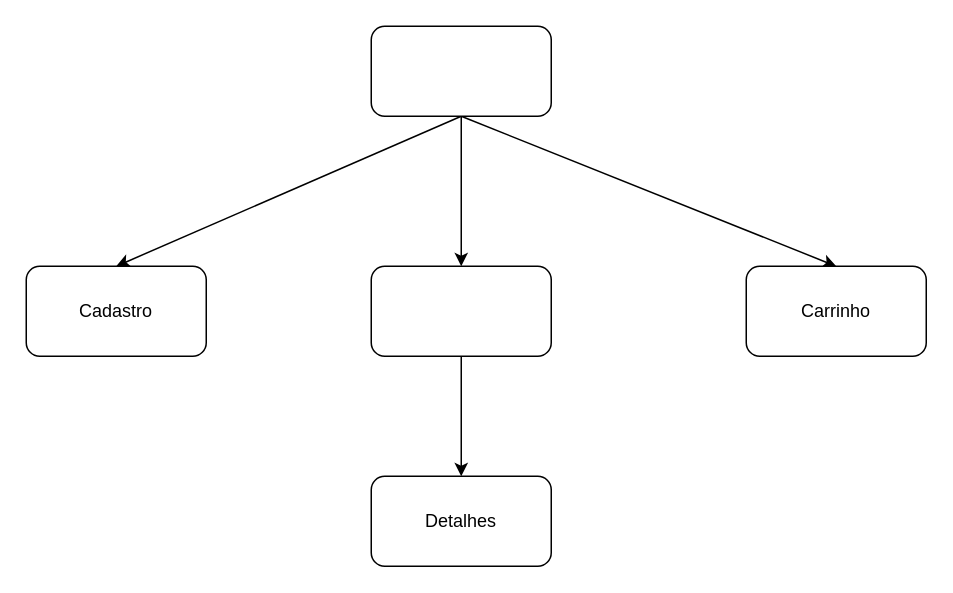
Some shapes in this 953 by 593 pixel diagram are drawn without their labels. The shapes that lost their labels are listed below. From the top down, each one's centre as x and y in pixels, then its label:
pixel 460 70: App
pixel 460 310: Serviços
